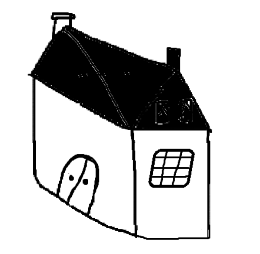chimney: (161, 41, 190, 85), (45, 4, 84, 34)
closed_window: (146, 144, 202, 191)
door: (52, 147, 104, 224)
shaded_roof: (28, 23, 220, 138)
wall: (127, 124, 219, 243)
